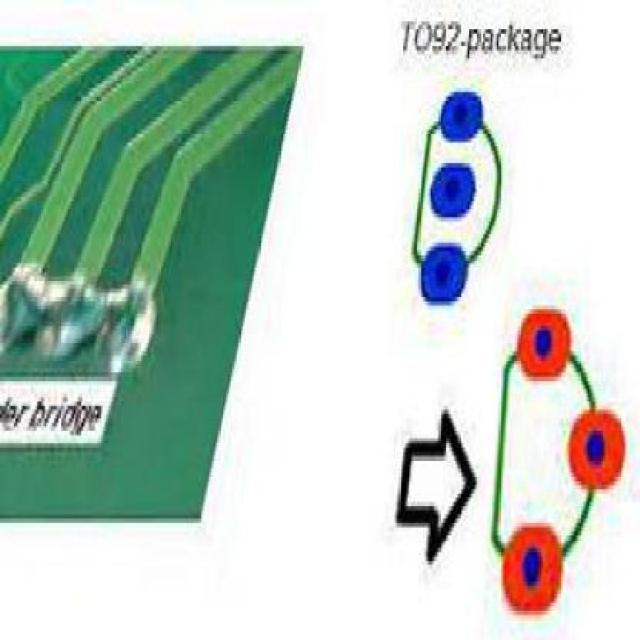Soldering shorted: (1, 250, 157, 372)
